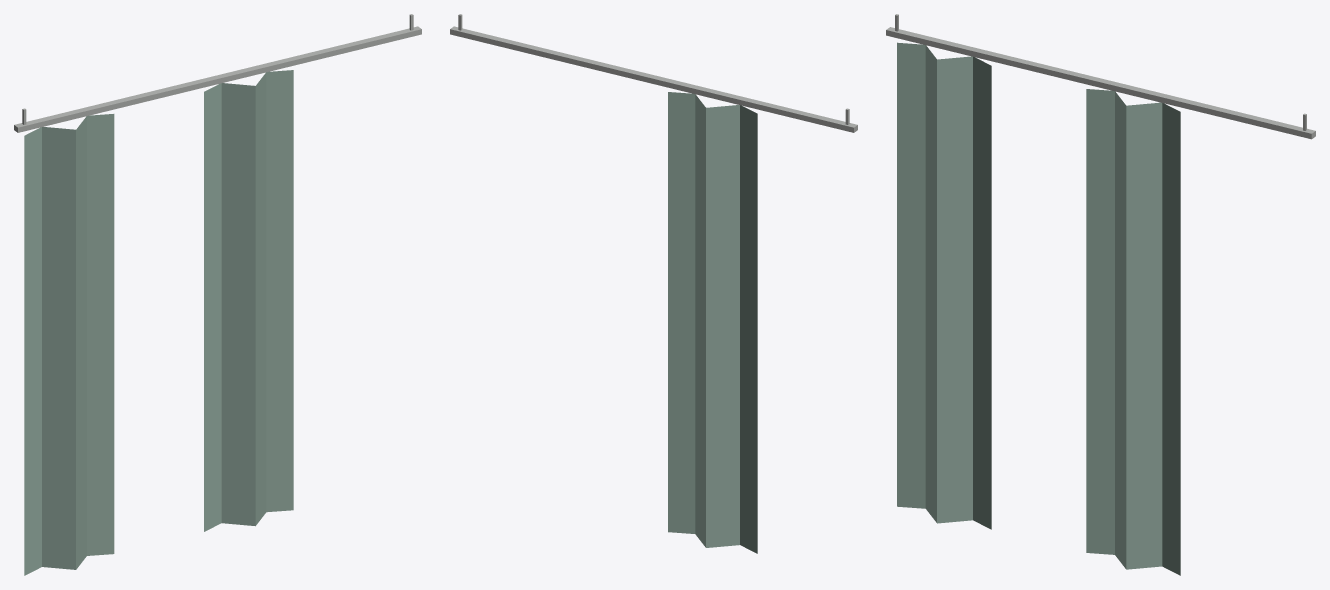
Rendered from ward_curtain.glb.
3 views of the same model, side by side, from view 1: azimuth 30°, elevation 25°; view 2: azimuth 150°, elevation 25°; view 3: azimuth 330°, elevation 25° (orthographic). The views are drawn at different scales.
Parts seen in each view (by area): view 1: WardCurtain; view 2: WardCurtain; view 3: WardCurtain.
Part boxes in pixels (x1,y1,x2,y2): WardCurtain: (14, 14, 421, 575); WardCurtain: (450, 14, 857, 553); WardCurtain: (886, 14, 1315, 575).
Size of the model in its own units: 2.4 by 2.65 by 0.14.
